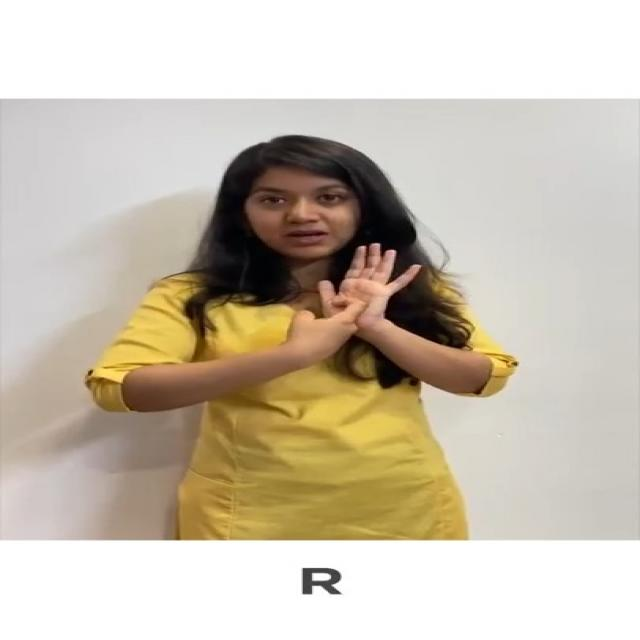R: (283, 240, 426, 377)
